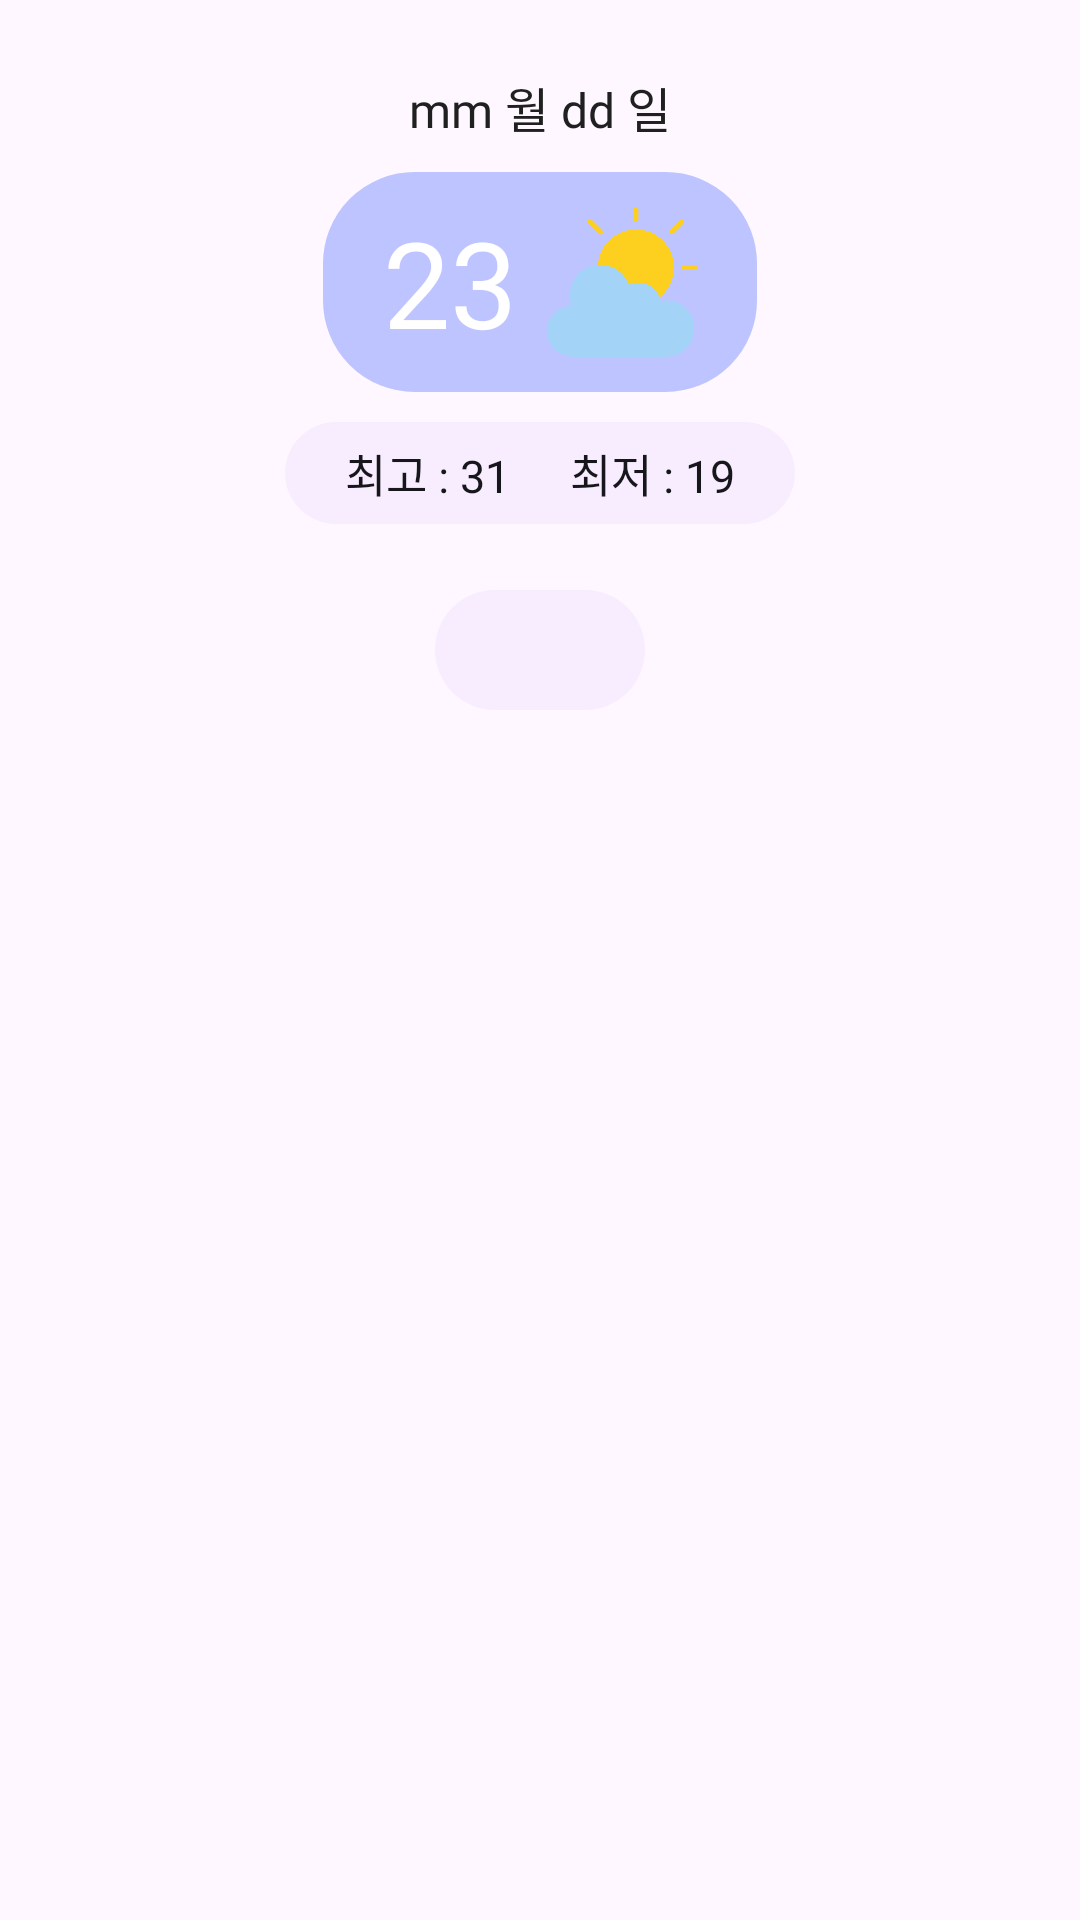

Icon bounding boxes for this 1080px x 1920px phone screenshot, format (x1, y1, x2, y2):
cloudy: (547, 207, 697, 357)
